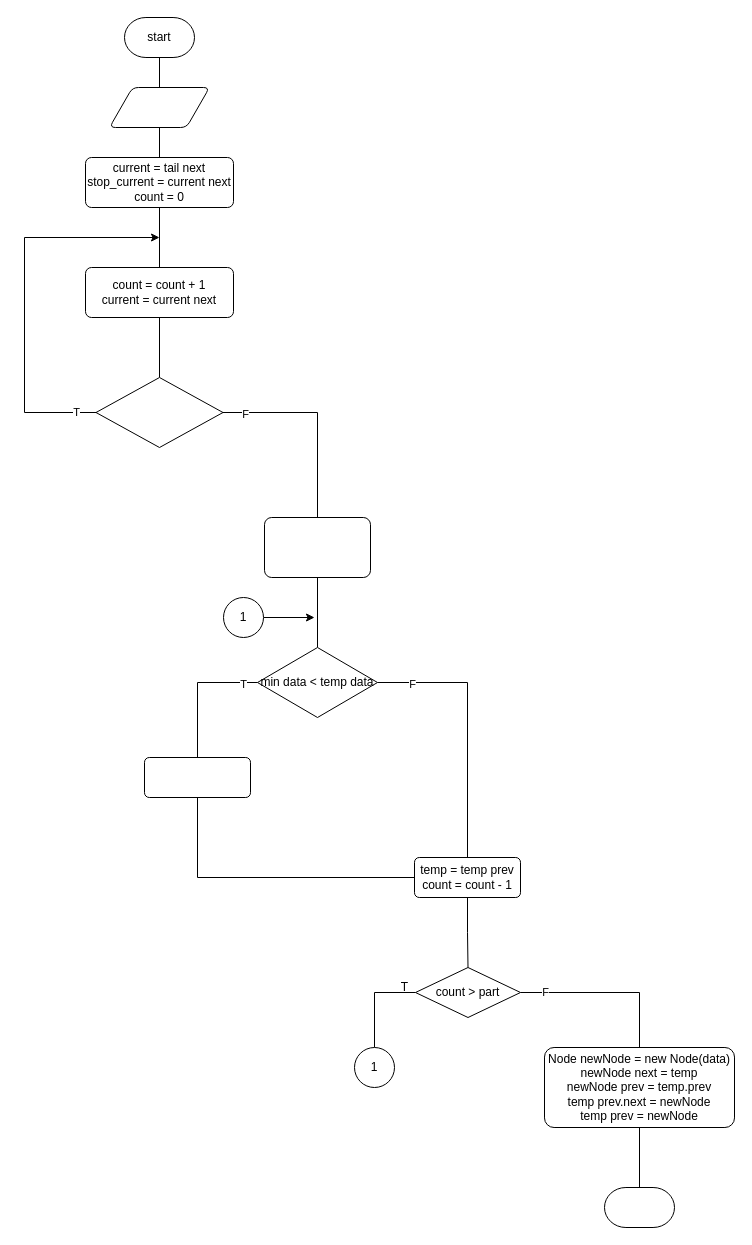
Some shapes in this 752 by 1245 pixel diagram are drawn without their labels. Each missing label, with the centre of its shape:
"current next != stop_current" goes at (x=159, y=412).
"data є N Node tail" goes at (x=159, y=107).
"end" goes at (x=639, y=1207).
"min = temp" goes at (x=197, y=777).
"part = (count/2) + 1 temp = tail min = tail" goes at (x=317, y=547).
